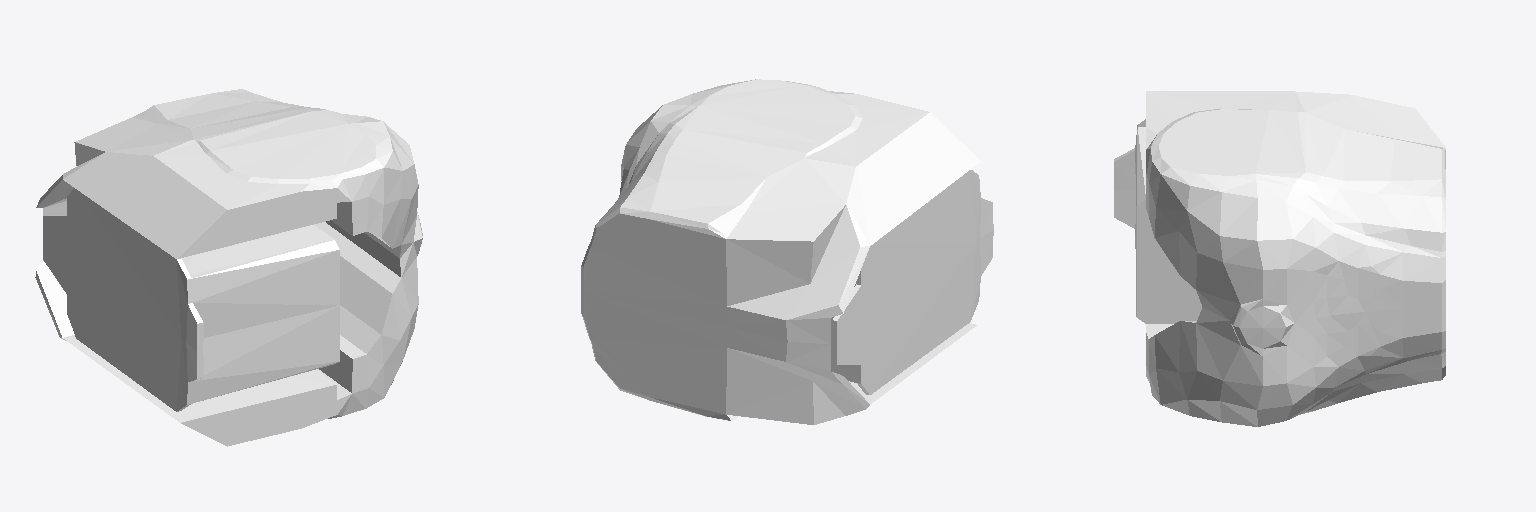
File: torso.obj
3 views of the same model, side by side, from view 1: azimuth 30°, elevation 25°; view 2: azimuth 150°, elevation 25°; view 3: azimuth 270°, elevation 25° (orthographic).
Bounding box in the file's own units: 0.4375 × 0.3435 × 0.426.